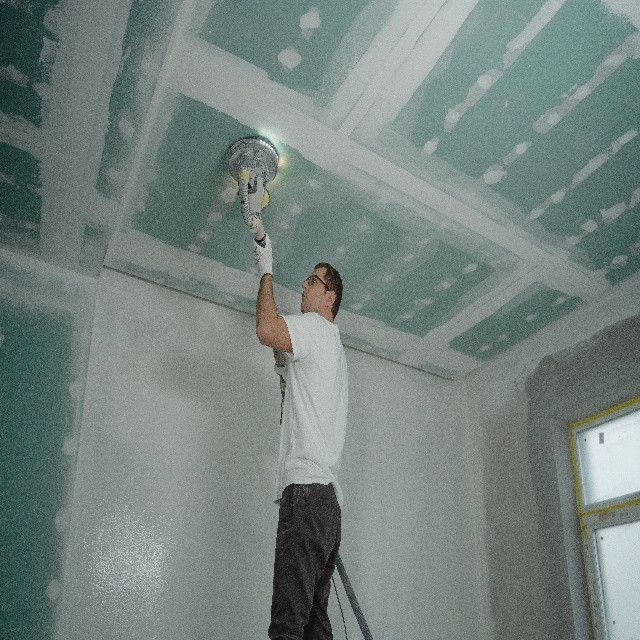Gafas: (303, 275, 320, 287)
Guantes: (252, 232, 274, 280)
